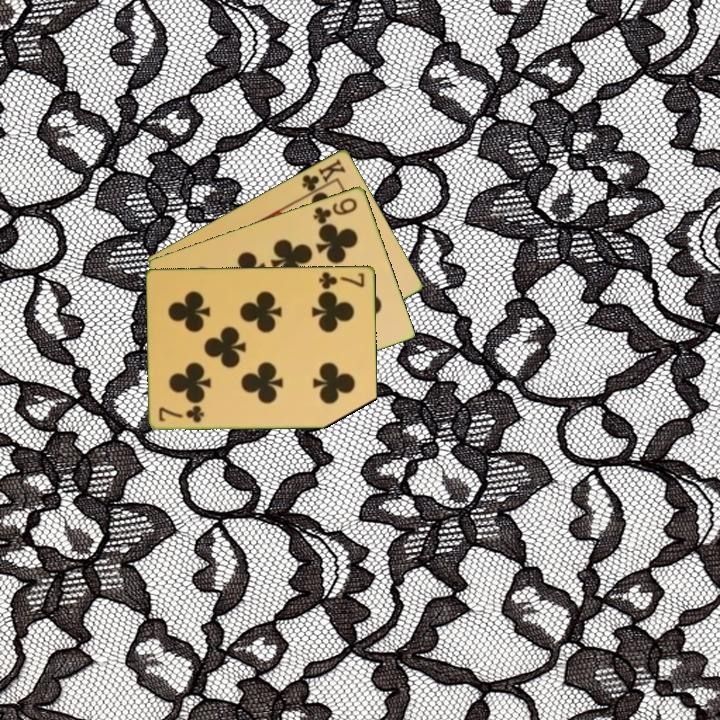7c: (316, 268, 367, 292), (156, 403, 207, 425)
9c: (310, 194, 361, 226)
Kc: (298, 155, 349, 198)
